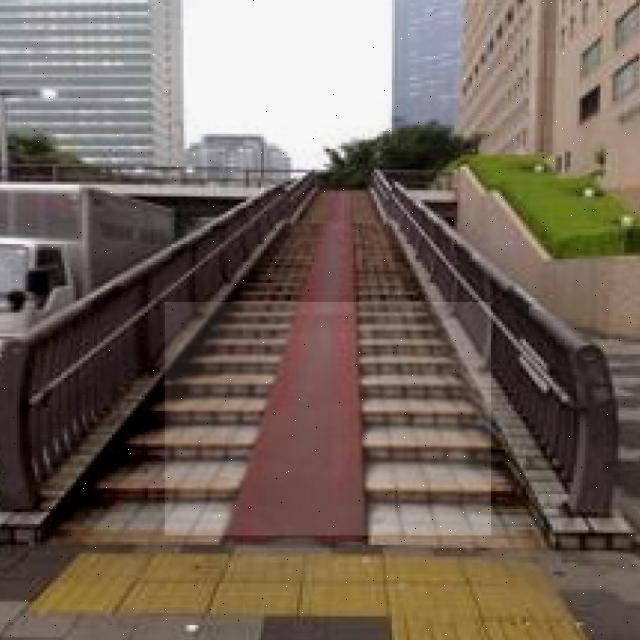stair: (165, 302, 491, 535)
